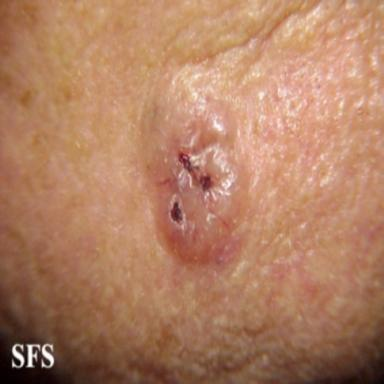basal-cell-carcinoma: (148, 95, 250, 263)
